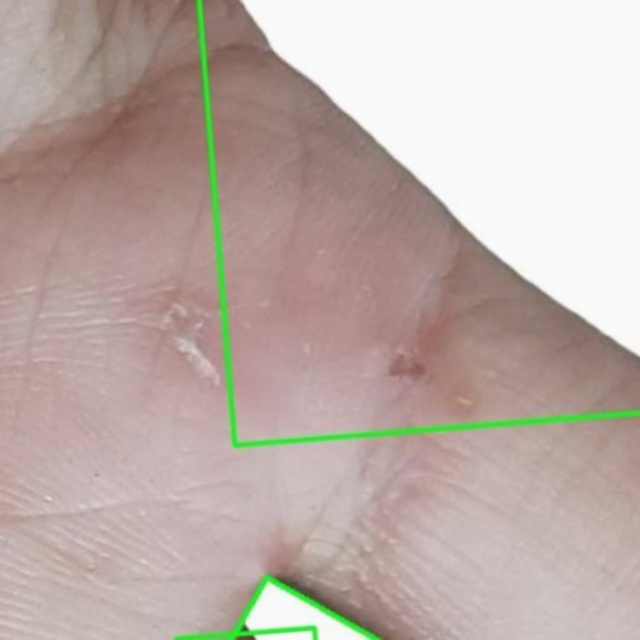Scabies: (197, 0, 639, 444)
